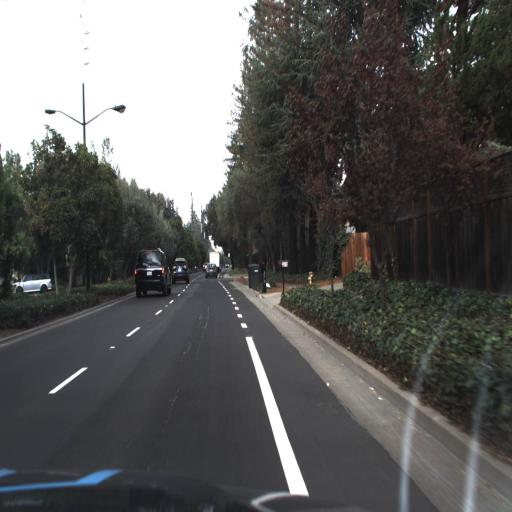car: (131, 249, 172, 301), (12, 273, 52, 291), (169, 256, 191, 287), (207, 249, 220, 270), (204, 262, 217, 279)
truck: (205, 247, 221, 278)
